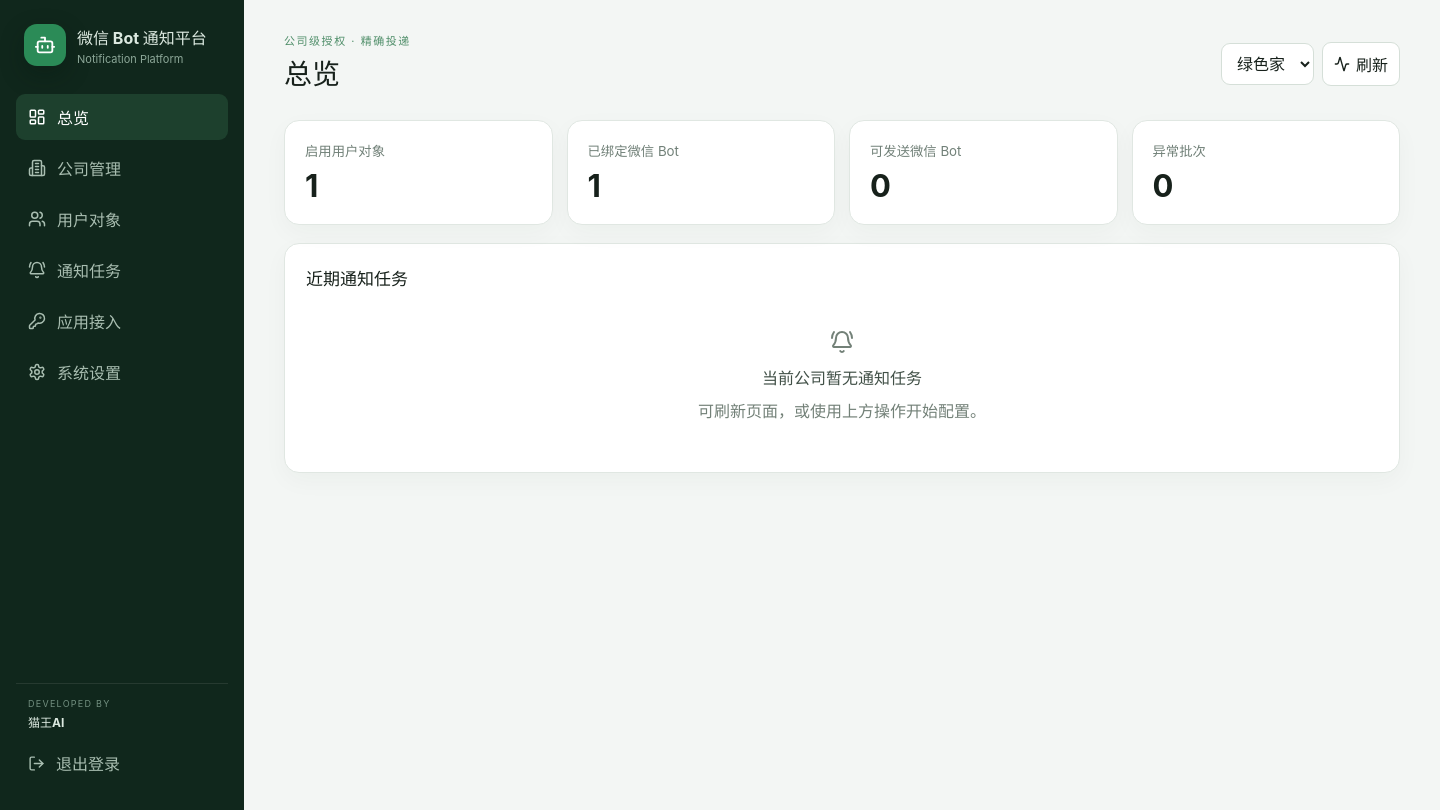
Test: merged user object management › shows object health at a glance and expands company-scoped contact details
The width and height of the screenshot is (1440, 810).
Click the button "用户对象" at (122, 219), box [16,196,228,242]
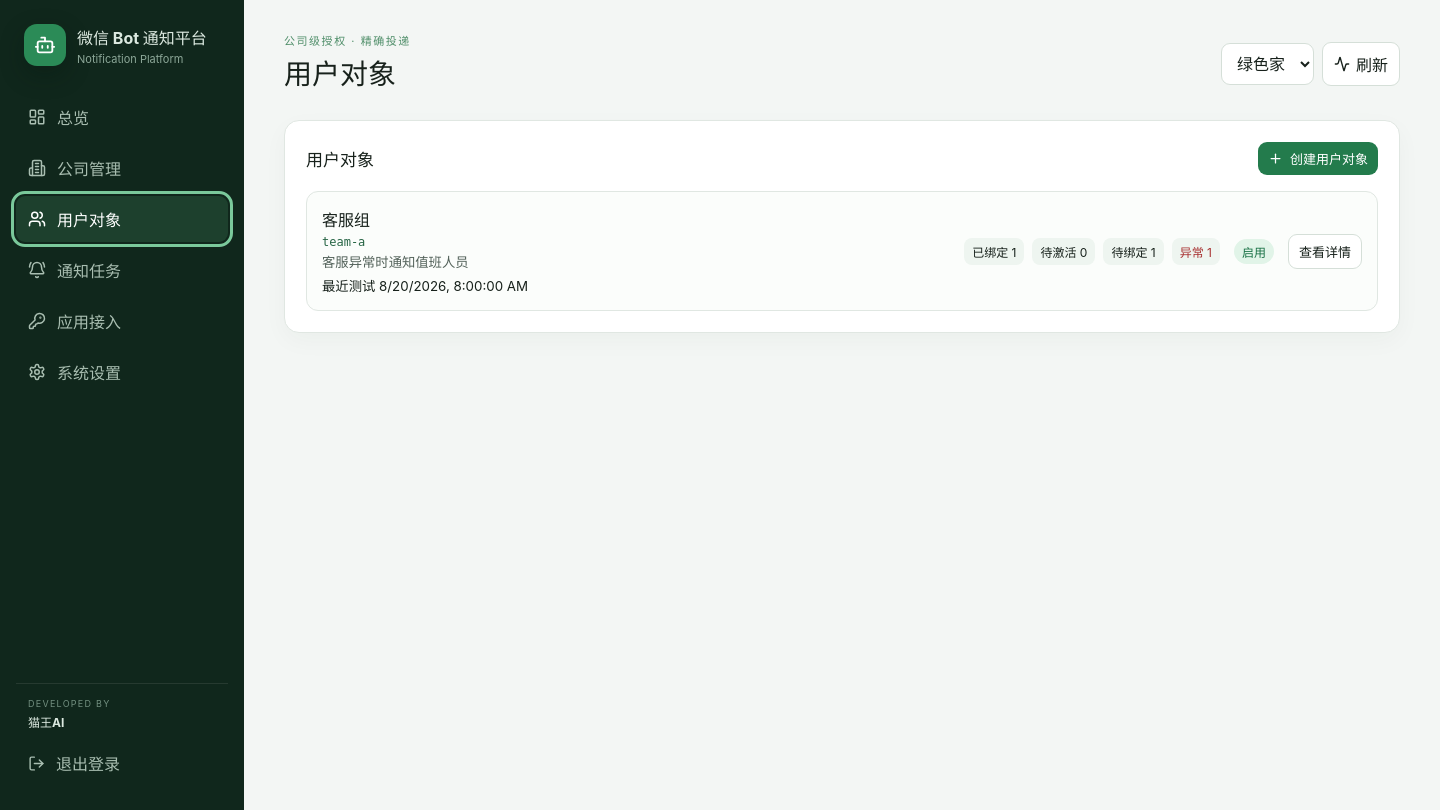
Expected: the text "已绑定 1" is shown, [964,238,1024,265]
Expected: the text "待绑定 1" is shown, [1103,238,1164,265]
Expected: the text "异常 1" is shown, [1172,238,1220,265]
Click the button with aria-label "展开客服组详情" at (1325, 251), box [1288,234,1362,269]
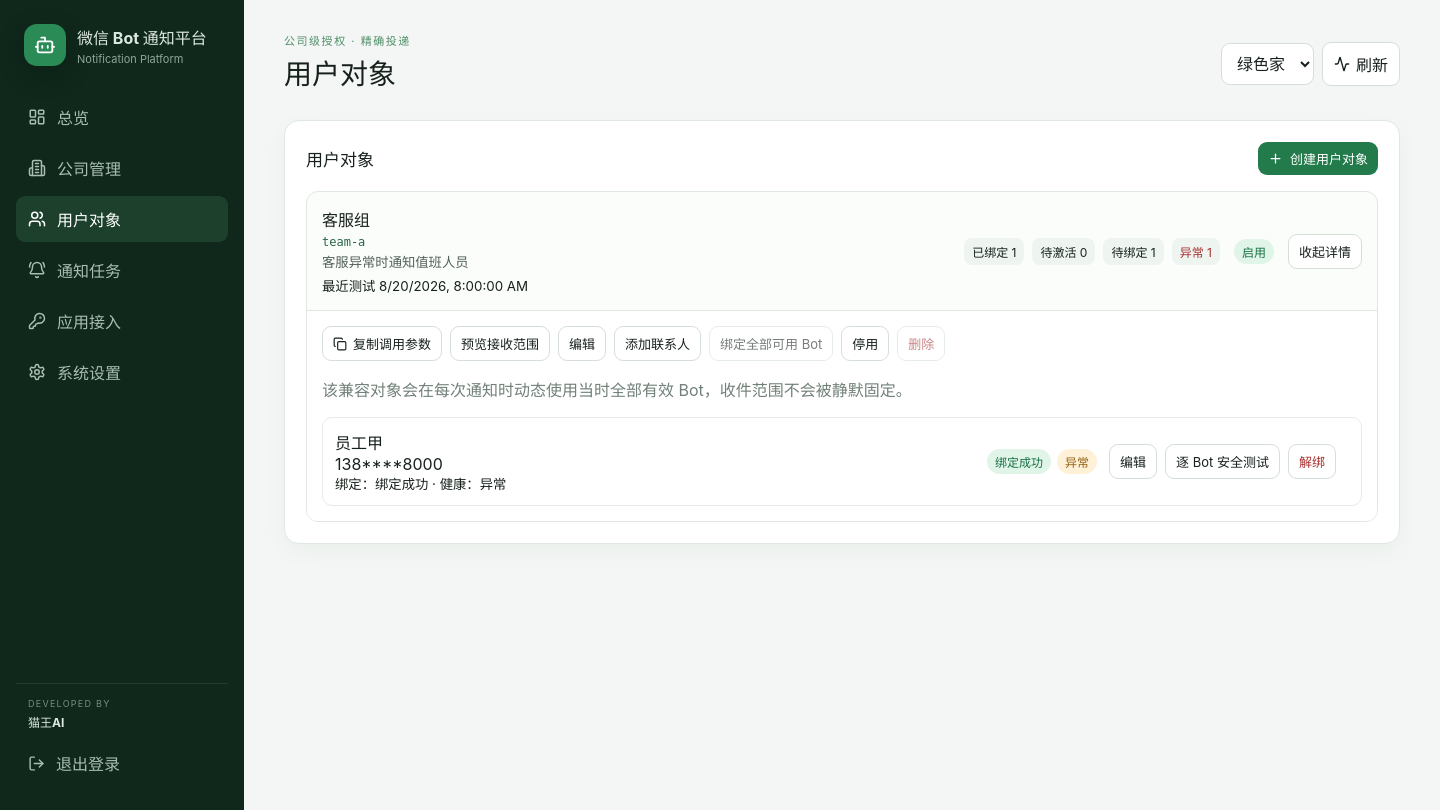
Expected: the text "138****8000" is shown, [335,454,443,474]
Expected: the text "员工甲" is shown, [335,433,383,453]
Expected: the button "逐 Bot 安全测试" is shown, [1165,444,1280,479]
